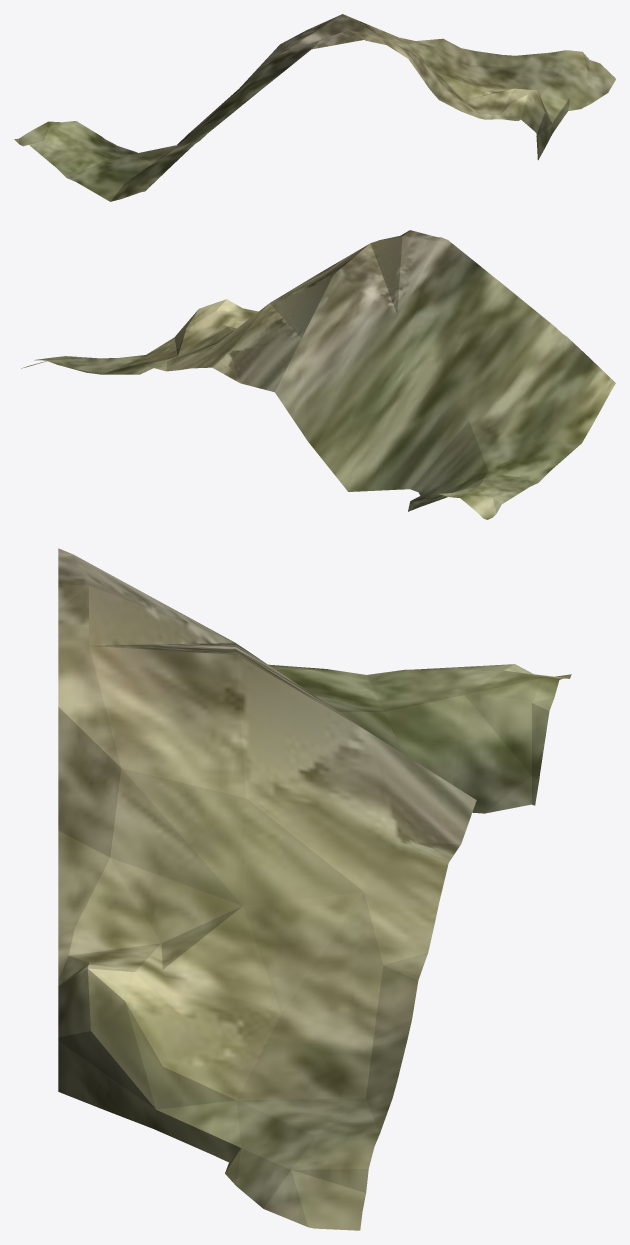
3 views of the same model, one above another, from view 1: azimuth 30°, elevation 25°; view 2: azimuth 150°, elevation 25°; view 3: azimuth 270°, elevation 25° (orthographic). The views are drawn at different scales.
Size of the model in its own units: 5.1 by 1.55 by 2.15.
Materials: 1 (1 with a texture image).
